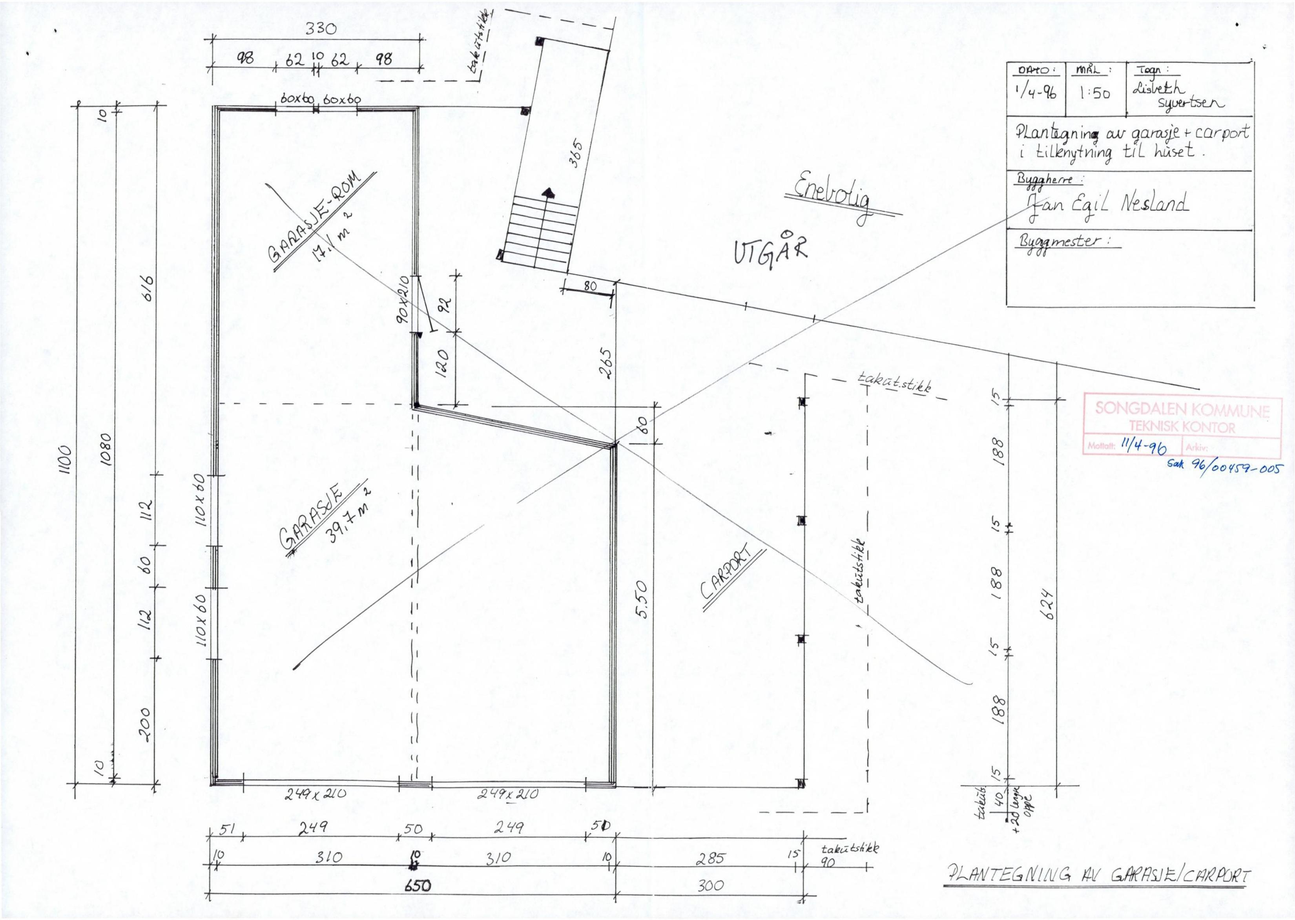plantegning: (184, 34, 824, 804)
